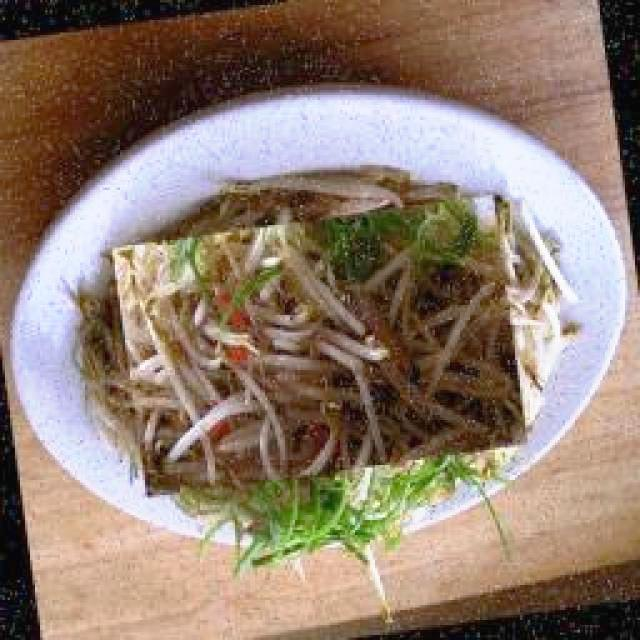mung_bean_sprouts: (103, 173, 565, 461)
